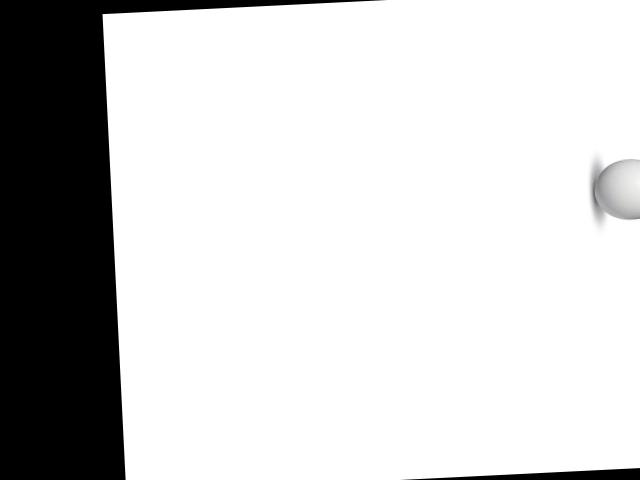egg: (593, 156, 640, 220)
